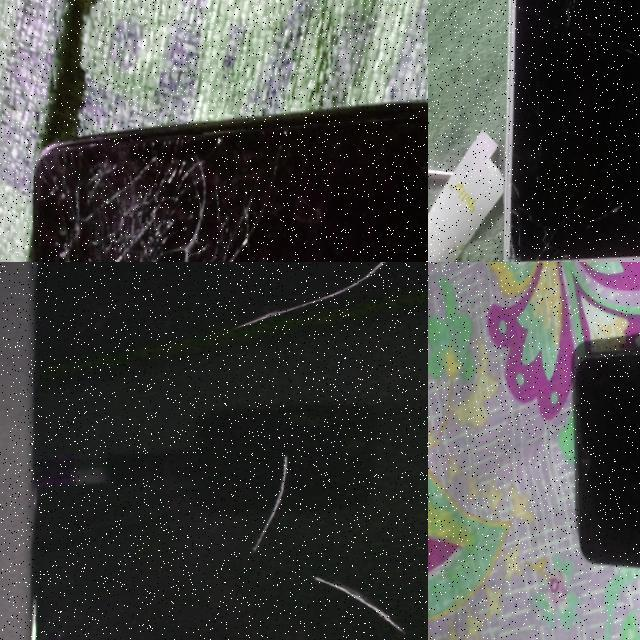scratch: (228, 262, 411, 347), (298, 574, 417, 640), (234, 450, 302, 562)
screen crack: (22, 119, 257, 262), (489, 218, 566, 262)
